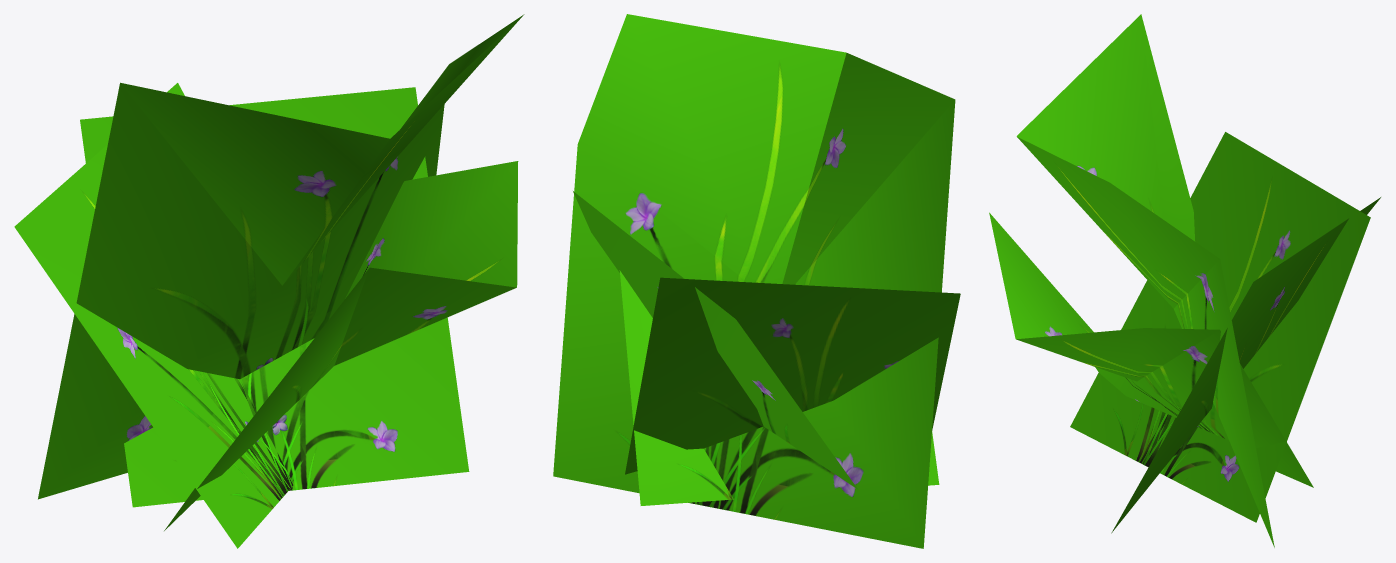
File: flowerplant_lod1.fbx
3 renders of one model, left to right at view 1: azimuth 30°, elevation 25°; view 2: azimuth 150°, elevation 25°; view 3: azimuth 270°, elevation 25°, orthographic. The views are drawn at different scales.
Parts seen in each view (by area): view 1: Mesh Object; view 2: Mesh Object; view 3: Mesh Object.
Part boxes in pixels (x1,y1,x2,y2): Mesh Object: (14,14,524,548); Mesh Object: (553,14,960,548); Mesh Object: (989,14,1380,547).
Size of the model in its own units: 2.31 by 2.23 by 2.05.
